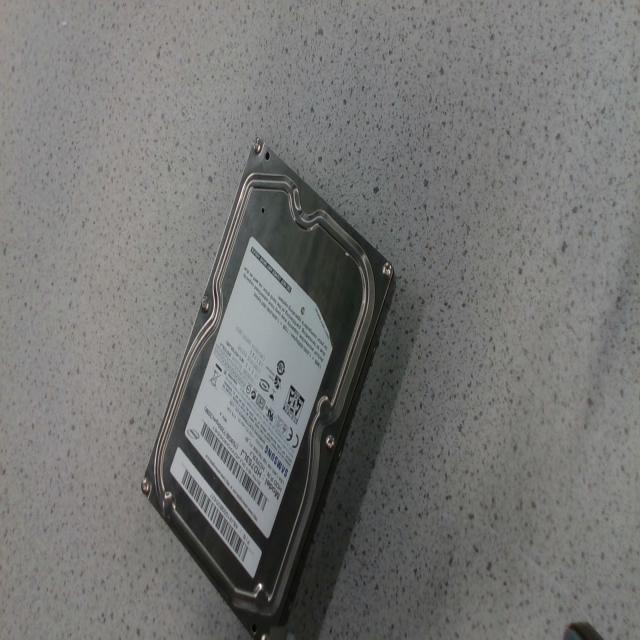label: (186, 238, 332, 537), (171, 449, 261, 574)
lid: (142, 140, 393, 635)
screw: (382, 261, 394, 279), (141, 476, 151, 496), (253, 138, 264, 155), (200, 295, 210, 313), (326, 435, 335, 449)
